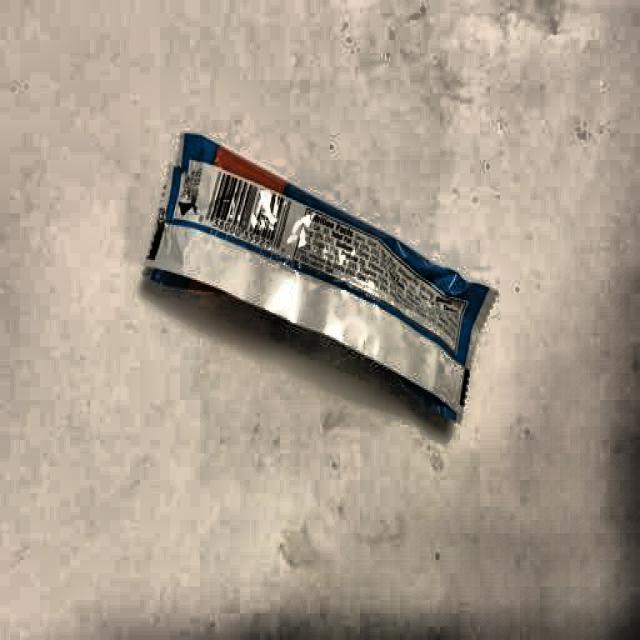trash: (145, 121, 496, 429)
